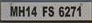character: (10, 4, 18, 16), (30, 5, 38, 17), (18, 5, 25, 17), (42, 5, 48, 17), (48, 5, 54, 17), (58, 5, 64, 17), (64, 5, 70, 17), (70, 5, 76, 16), (25, 5, 30, 17), (76, 5, 81, 17)
